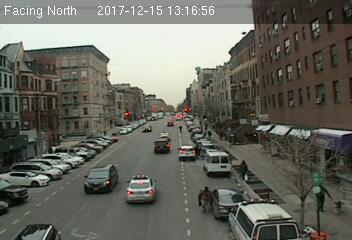car: (199, 186, 247, 219), (83, 165, 119, 192), (177, 146, 196, 159), (153, 139, 171, 152)
pedestrian: (316, 182, 332, 215), (238, 159, 249, 180)
police: (227, 198, 300, 240), (125, 173, 161, 207)
truck: (202, 151, 231, 174)
